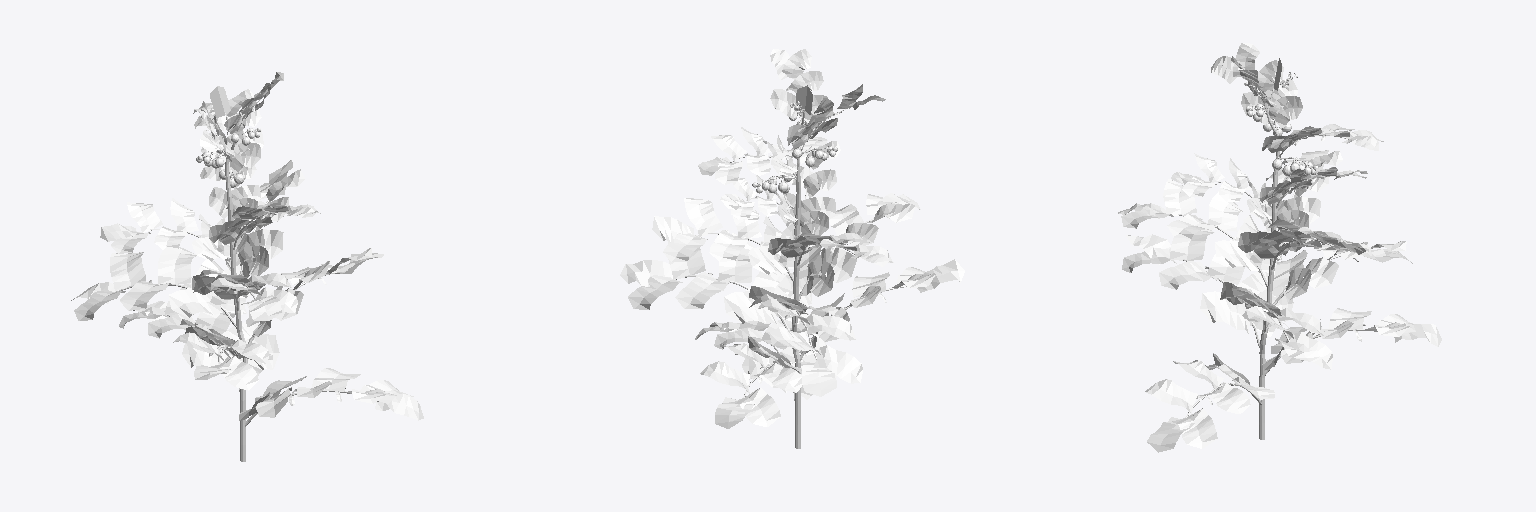
The picture shows the model from 3 angles: view 1: azimuth 30°, elevation 25°; view 2: azimuth 150°, elevation 25°; view 3: azimuth 270°, elevation 25°; orthographic projection.
Parts seen in each view (by area): view 1: VG18_7; view 2: VG18_7; view 3: VG18_7.
Boxes of the visible parts, box(x1,y1,x2,y2) form: VG18_7: box(71, 72, 423, 461); VG18_7: box(620, 49, 964, 448); VG18_7: box(1118, 43, 1441, 452).
Size of the model in its own units: 0.9248 by 1.26 by 0.9584.